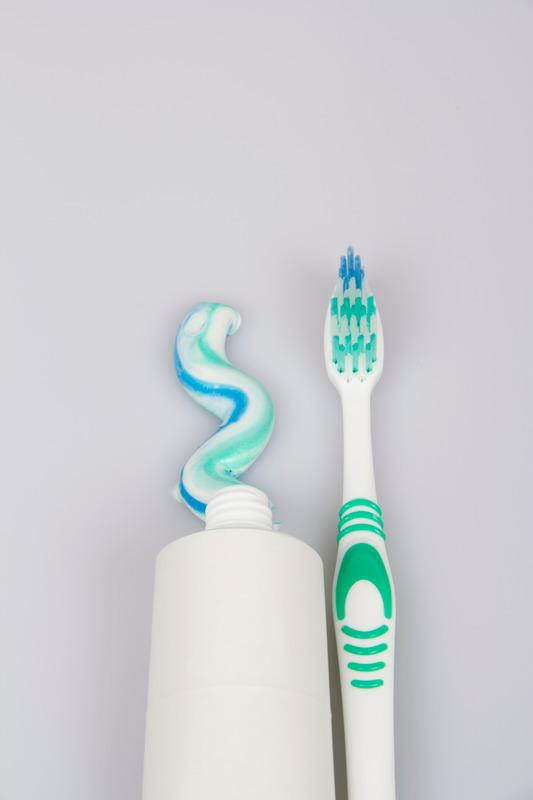toothpaste: (135, 468, 340, 800)
